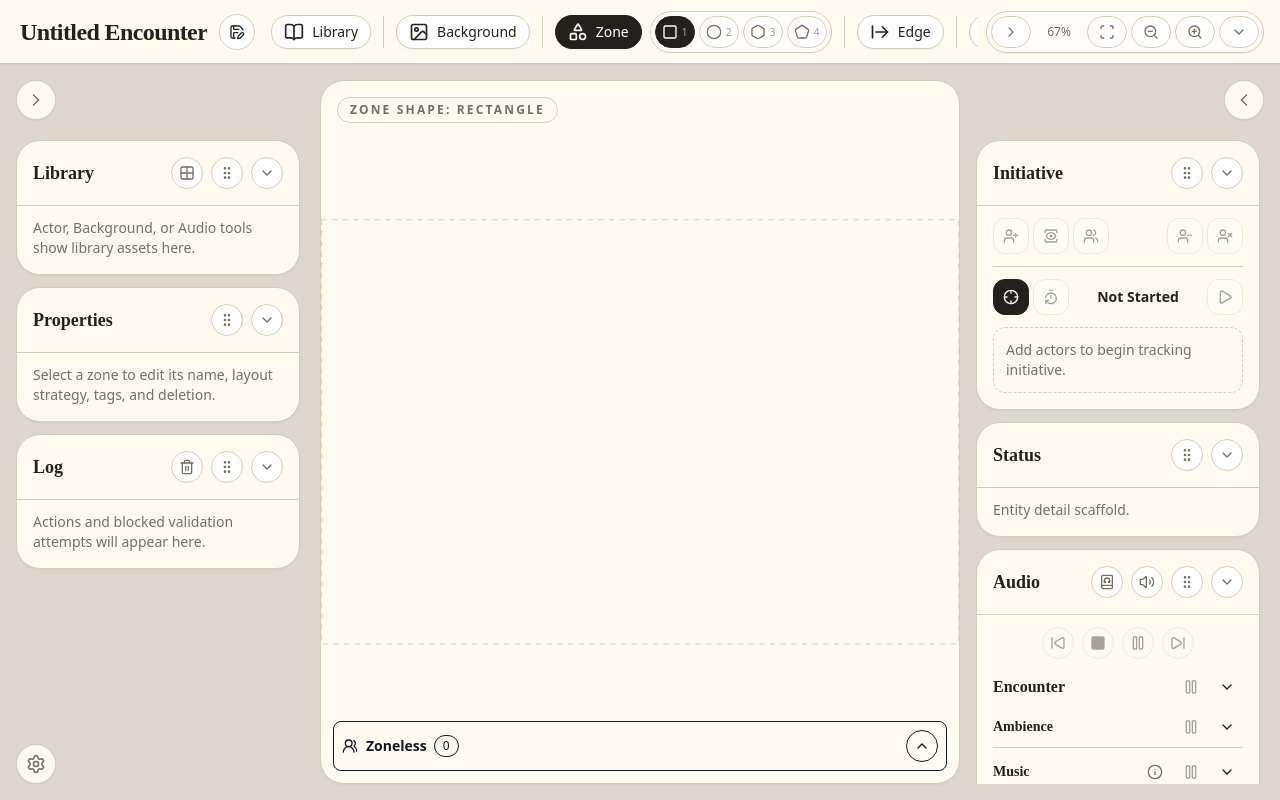
it: App › opens the Library destination picker when saving an unfiled encounter
Click the button named "Save encounter": x=237, y=32 [219,14,255,50]
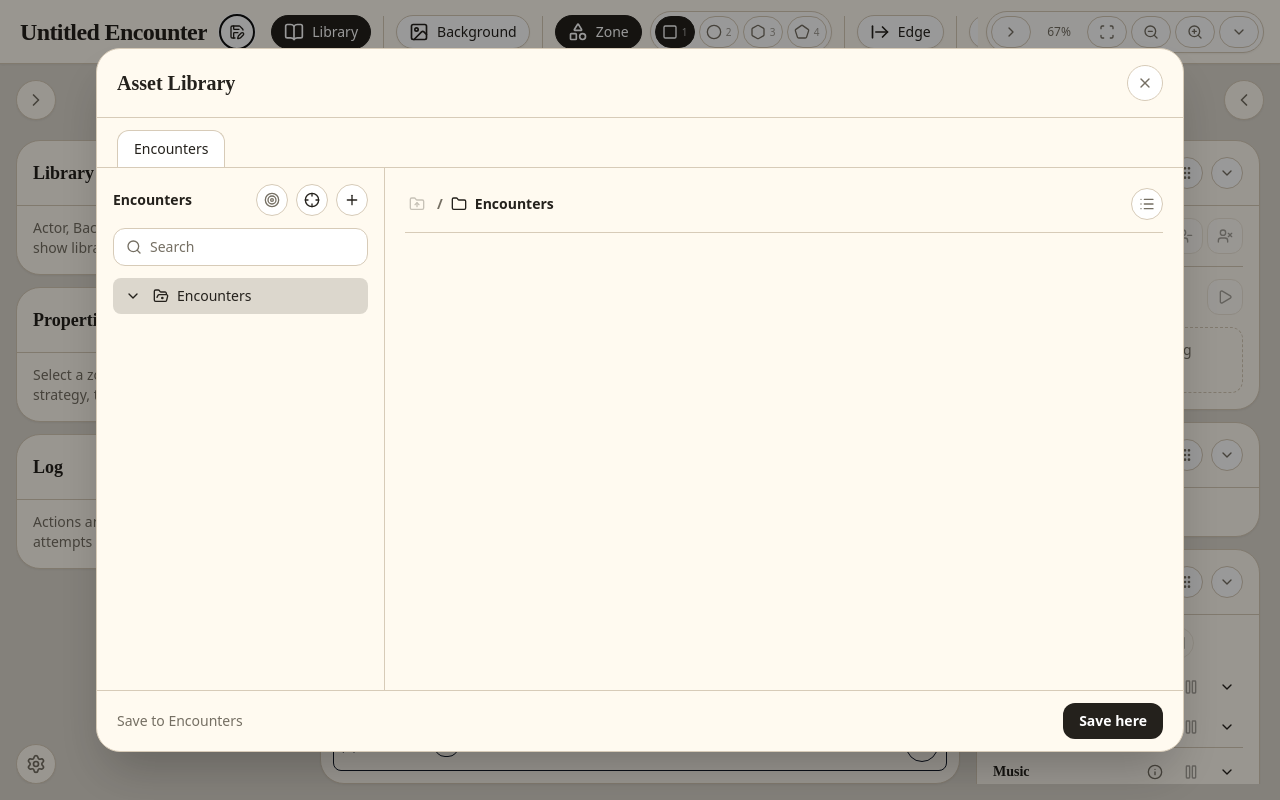
Now the dialog "Asset Library" is shown
